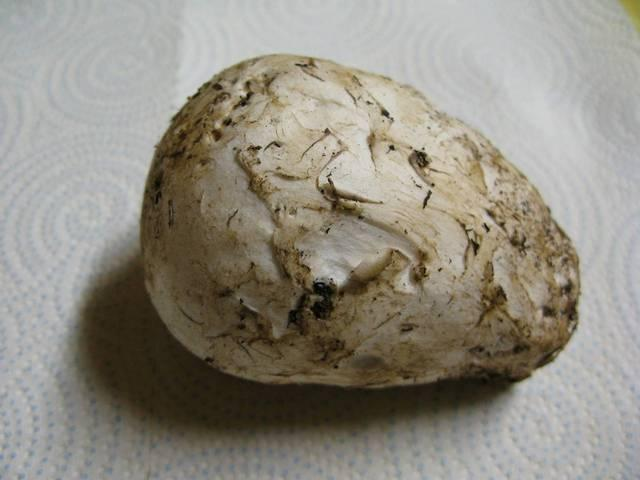Edible Mushroom: (138, 51, 582, 392)
